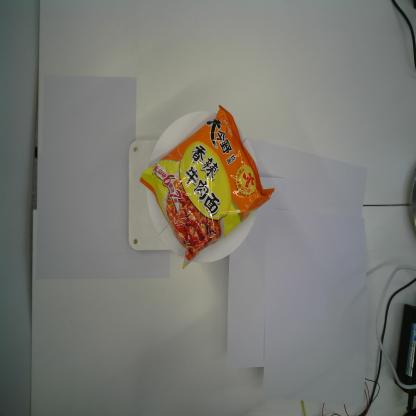Instant Noodles: (138, 103, 275, 272)
